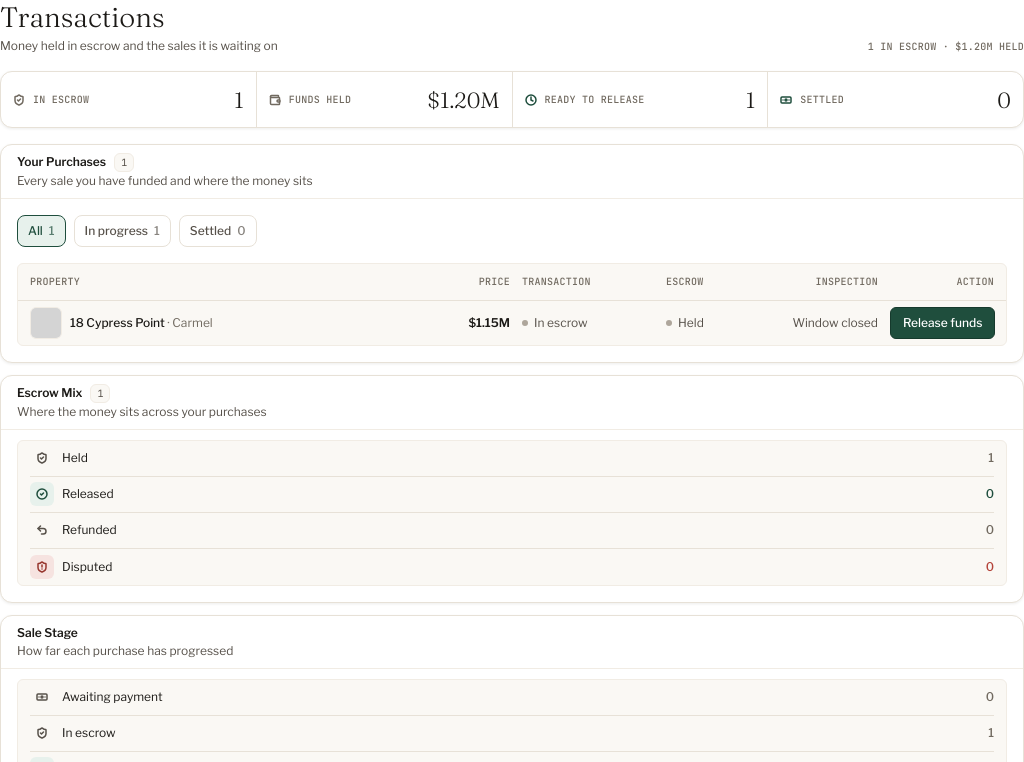
Test: TransactionsConsole · releasing › 3.2 names the property, the held amount and the window
This screenshot has width=1024, height=762.
Click the button "Release funds".
click(943, 322)  # box [890, 306, 995, 338]
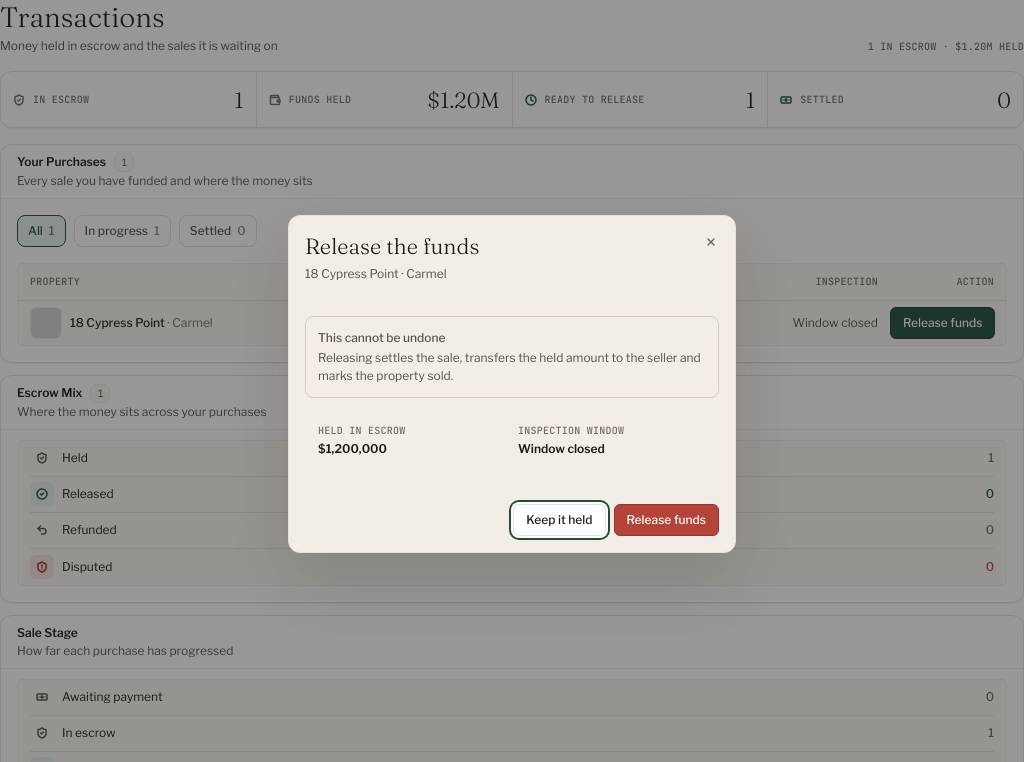
Now the text "18 Cypress Point · Carmel" is shown, box [305, 266, 447, 281]
Now the text "$1,200,000" is shown, box [318, 441, 387, 456]
Now the text "Window closed" is shown, box [518, 441, 605, 456]
